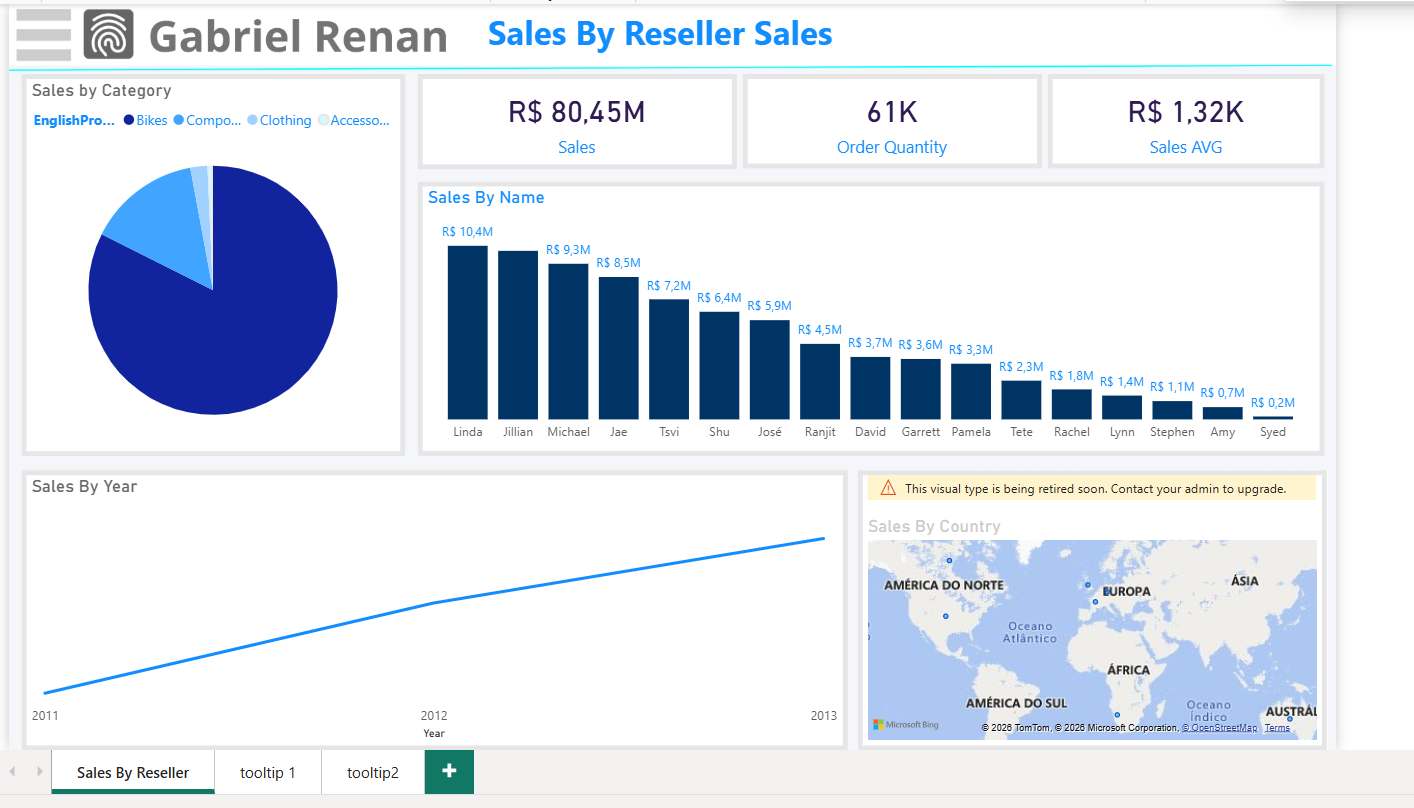

The page's visual inventory and layout, read from the dashboard file:
{"tool":"powerbi","page":{"name":"Sales By Reseller","canvas":[1280,720],"ordinal":0},"visuals":[{"type":"clusteredColumnChart","title":"Sales By Name","fields":{"Y":["Table of Measures.Sales"],"Category":["FactResellerSales.FirstName"]},"box":[395,171.2,875,265],"z":0},{"type":"card","fields":{"Values":["Table of Measures.Sales"]},"box":[394.5,67.6,307.6,91.7],"z":1000},{"type":"card","fields":{"Values":["Table of Measures.Sales AVG"]},"box":[1002.5,67.5,267.5,91.2],"z":2000},{"type":"card","fields":{"Values":["Table of Measures.Order Quantity"]},"box":[707.9,67.5,288.8,91.2],"z":3000},{"type":"pieChart","title":"Sales by Category","fields":{"Category":["DimProduct.EnglishProductCategoryName"],"Y":["Table of Measures.Sales"]},"box":[12.1,67.6,370.4,369.2],"z":4000},{"type":"map","title":"Sales By Country","fields":{"Category":["DimSalesTerritory.SalesTerritoryCountry"]},"box":[818.8,450,452.5,270],"z":5000},{"type":"lineChart","title":"Sales By Year","fields":{"Category":["FactResellerSales.DueDate.Variation.Date Hierarchy.Year"],"Y":["Table of Measures.Sales"]},"box":[12.5,450,797.5,270],"z":6000},{"type":"actionButton","box":[0,0,65.1,65.1],"z":7000},{"type":"textbox","box":[457.5,0,366.2,58.8],"z":9000}]}

Visuals, with their boxes on the page's 1280x720 design canvas (x1, y1, x2, y2). These are canvas units, not pixel positions in the 1414x808 screenshot, which may show the page scaled, cropped or inside an application window:
"Sales By Name" clusteredColumnChart: 395 171 1270 436
card - Table of Measures.Sales: 394 68 702 159
card - Table of Measures.Sales AVG: 1002 68 1270 159
card - Table of Measures.Order Quantity: 708 68 997 159
"Sales by Category" pieChart: 12 68 382 437
"Sales By Country" map: 819 450 1271 720
"Sales By Year" lineChart: 12 450 810 720
actionButton: 0 0 65 65
textbox: 458 0 824 59
